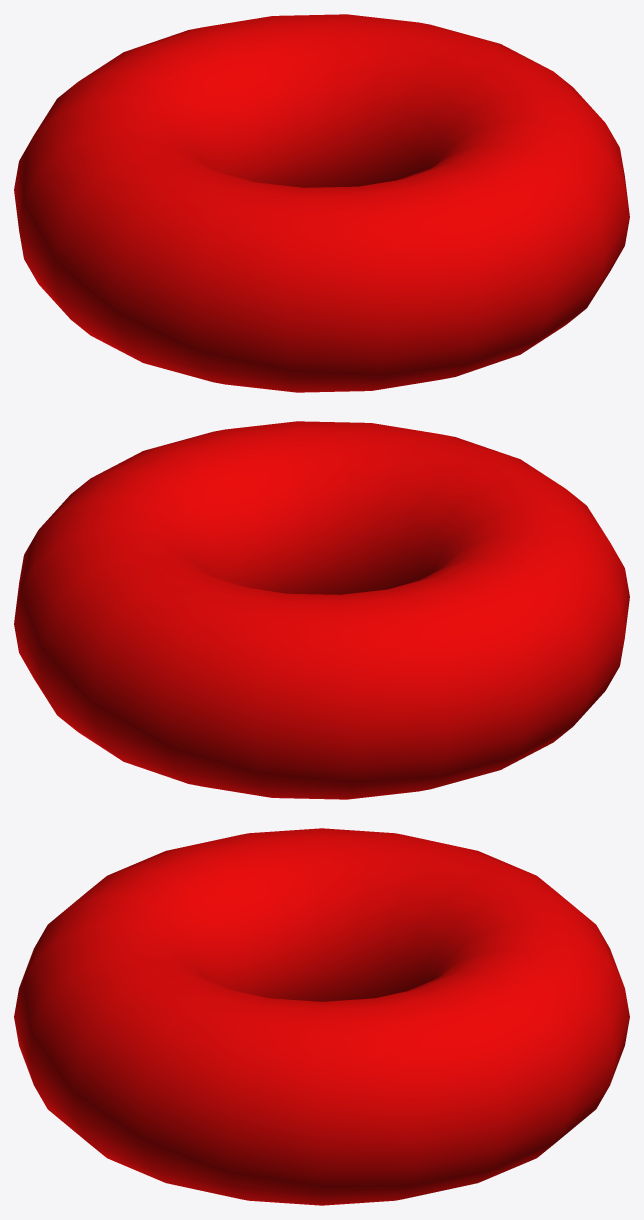
Rendered from PrimitiveTorus.fbx.
3 renders of one model, top to bottom at view 1: azimuth 30°, elevation 25°; view 2: azimuth 150°, elevation 25°; view 3: azimuth 270°, elevation 25°, orthographic.
Parts seen in each view (by area): view 1: PrimitiveTorus; view 2: PrimitiveTorus; view 3: PrimitiveTorus.
Boxes of the visible parts, <box> form: PrimitiveTorus: <box>14,14,629,392</box>; PrimitiveTorus: <box>14,421,629,799</box>; PrimitiveTorus: <box>14,828,629,1205</box>.
Bounding box in the file's own units: 300 × 100 × 300.
